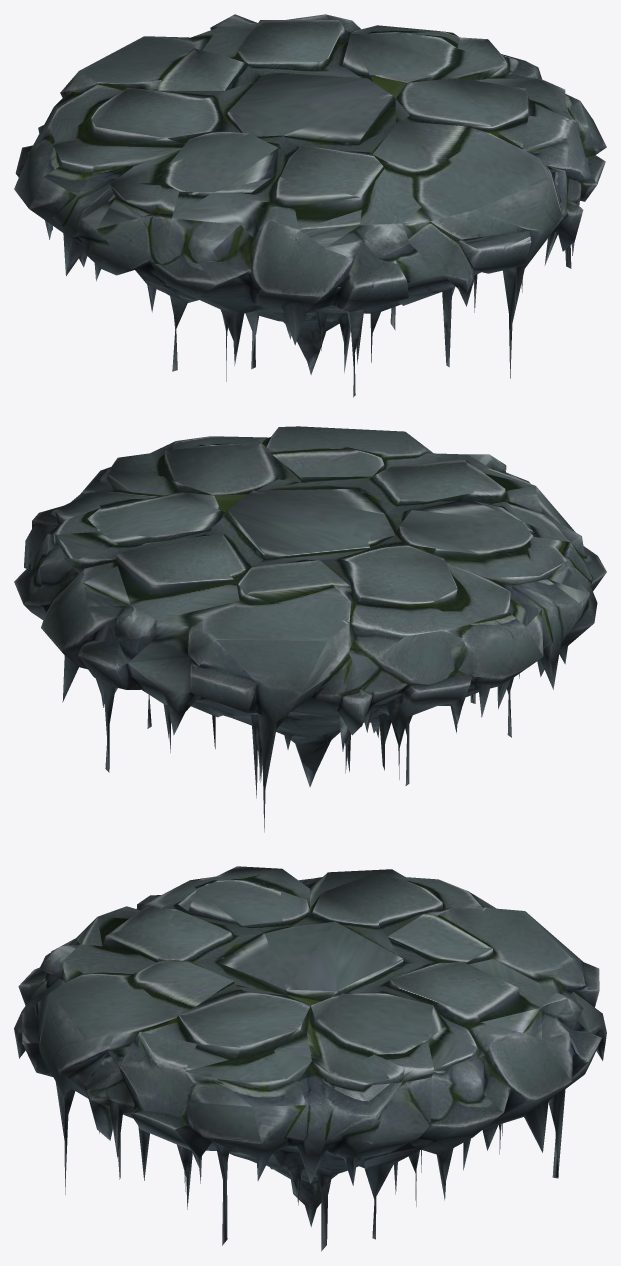
Rendered from StaticRock2.glb.
The picture shows the model from 3 angles, top to bottom: view 1: azimuth 30°, elevation 25°; view 2: azimuth 150°, elevation 25°; view 3: azimuth 270°, elevation 25°; orthographic projection.
Parts seen in each view (by area): view 1: StaticRock; view 2: StaticRock; view 3: StaticRock.
Boxes of the visible parts, <box> form: StaticRock: <box>14,14,606,397</box>; StaticRock: <box>14,426,606,832</box>; StaticRock: <box>14,866,606,1251</box>.
Size of what is drawn, in the model's own units: 1.9 by 0.961 by 1.9.
1 material, 1 textured.
